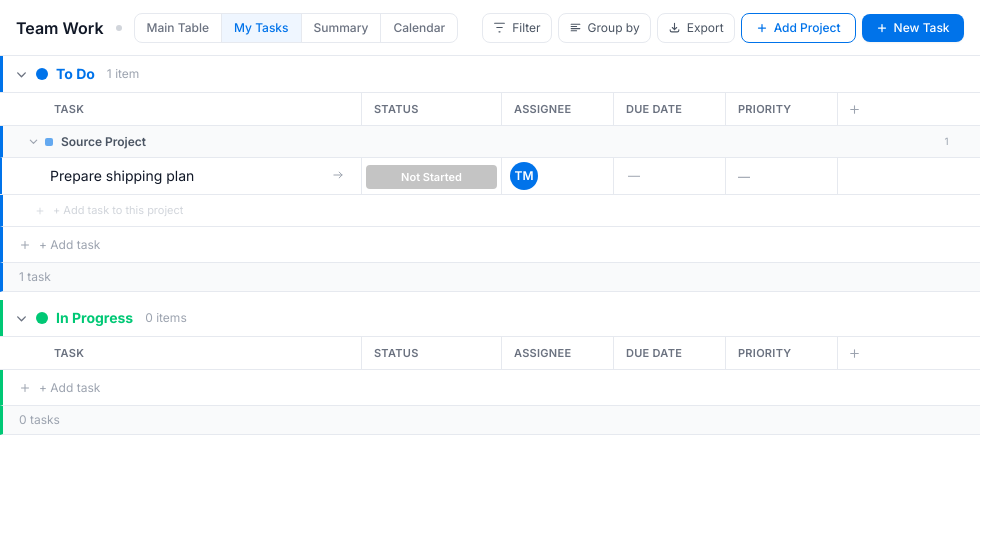
Scenario: moving tasks between projects through the board UI › moves between projects across groups and can remove the project afterward
Click the button named "Move \"Prepare shipping plan\" to project" at (338, 175), box [327, 164, 349, 186]
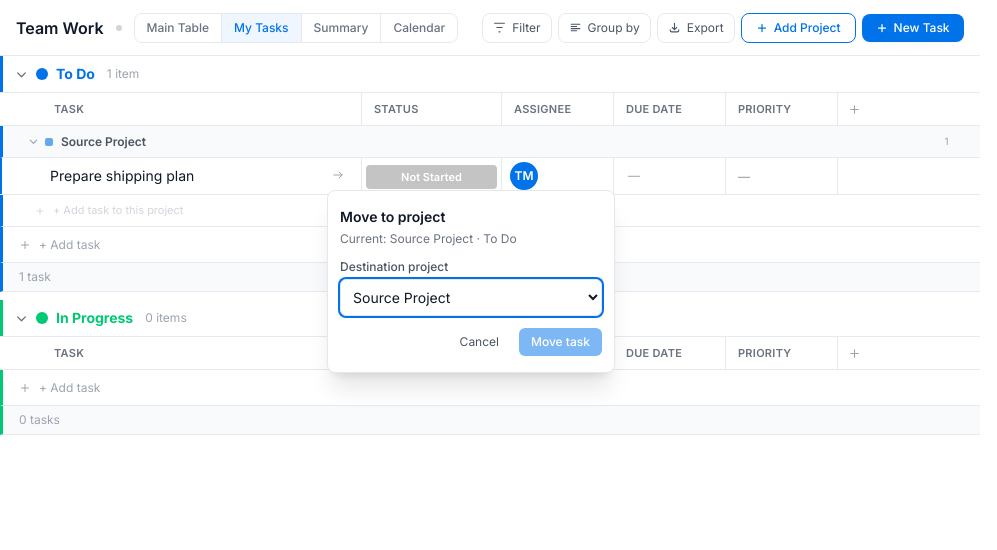
Now the dropdown labelled "Destination project" shows "Source Project"
Now the button "Move task" is disabled, box [519, 328, 602, 356]
Select "Colleague Project" in the dropdown labelled "Destination project" at (471, 298), box [340, 279, 602, 316]
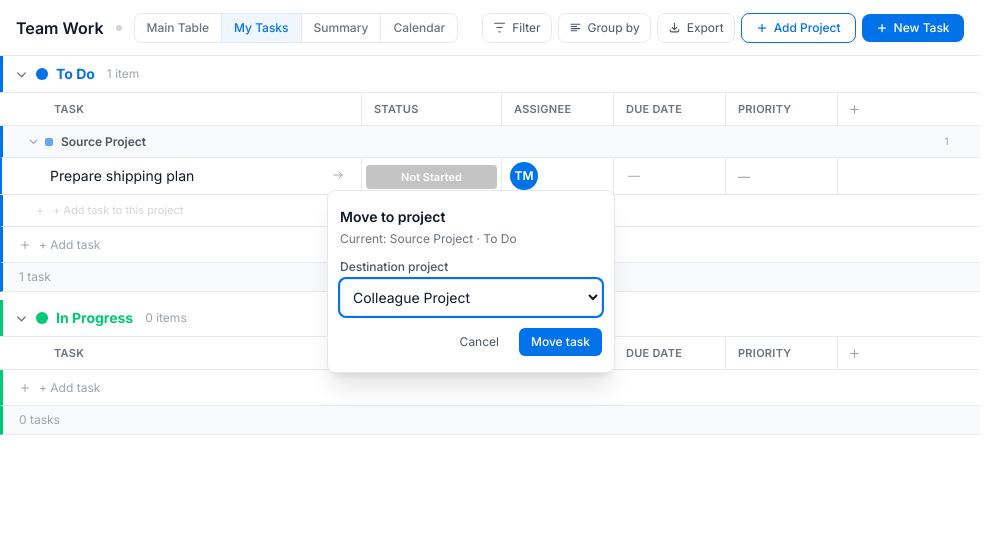
Click the button "Move task" at (560, 342), box [519, 328, 602, 356]
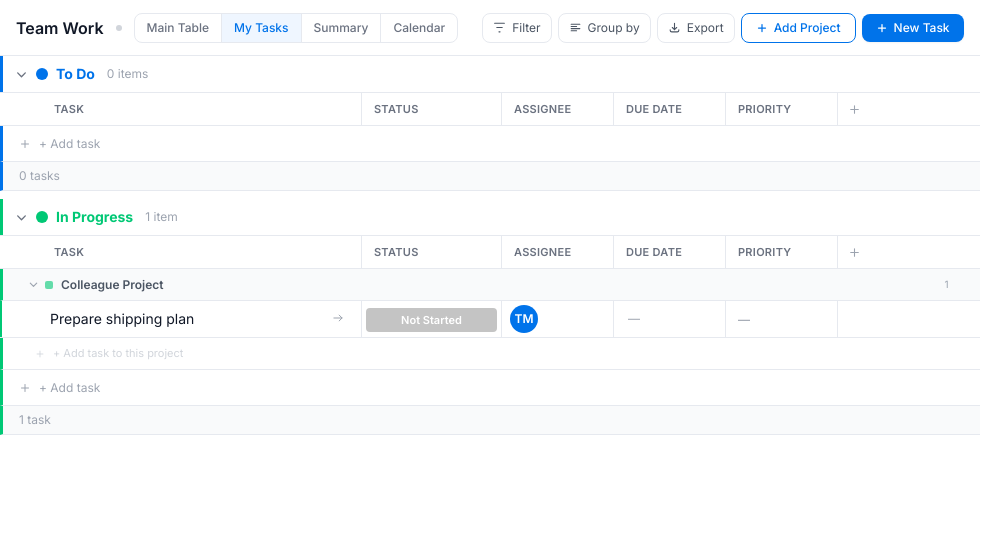
Expected: the button "Prepare shipping plan" is shown, [50, 309, 323, 329]
Now the text "Colleague Project" is shown, box [61, 276, 164, 292]
Now the text "Source Project" is gone
Click the button named "Move \"Prepare shipping plan\" to project" at (338, 318), box [327, 307, 349, 329]
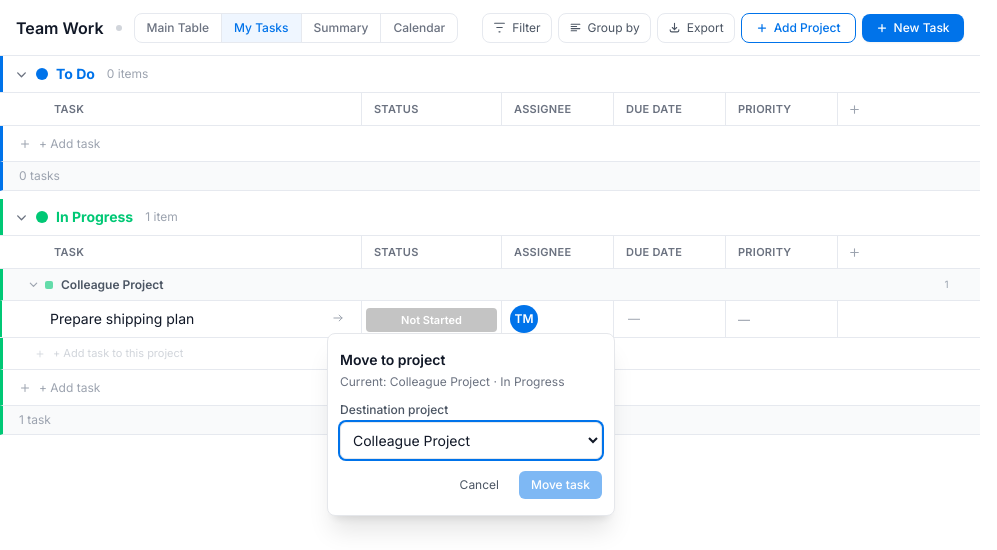
Now the dropdown labelled "Destination project" shows "Colleague Project"
Select "No project" in the dropdown labelled "Destination project" at (471, 440), box [340, 422, 602, 459]
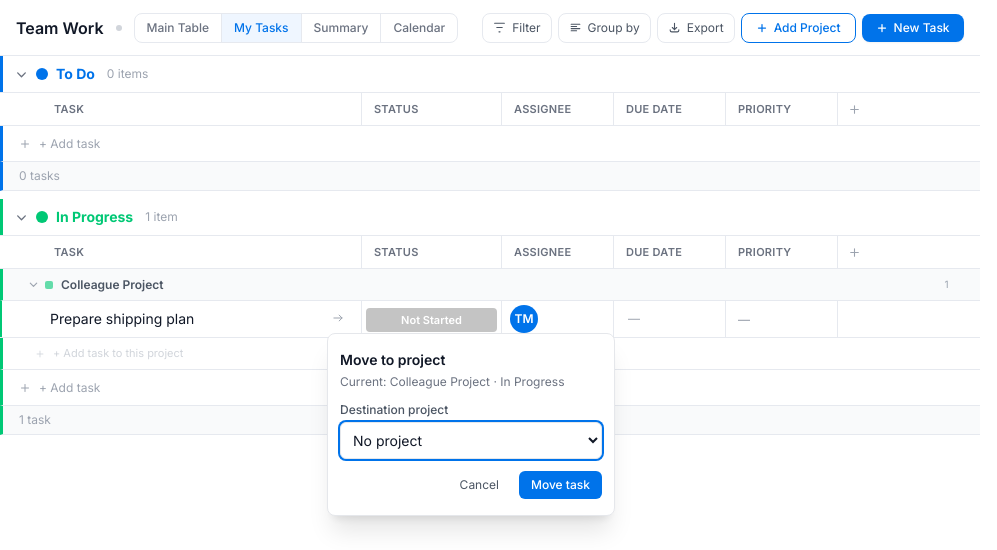
Click the button "Move task" at (560, 485), box [519, 471, 602, 499]
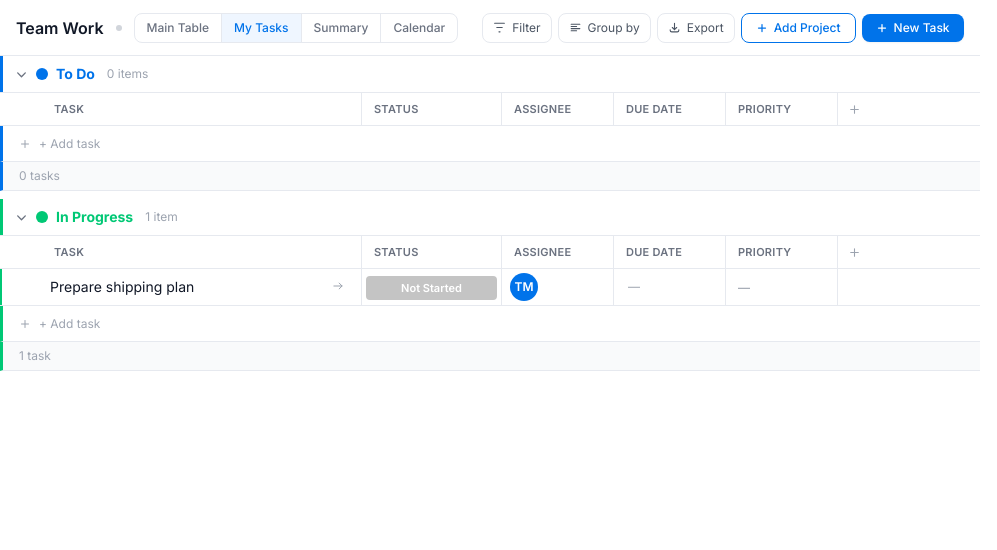
Expected: the button "Prepare shipping plan" is shown, [50, 277, 323, 297]
Now the text "Colleague Project" is gone
